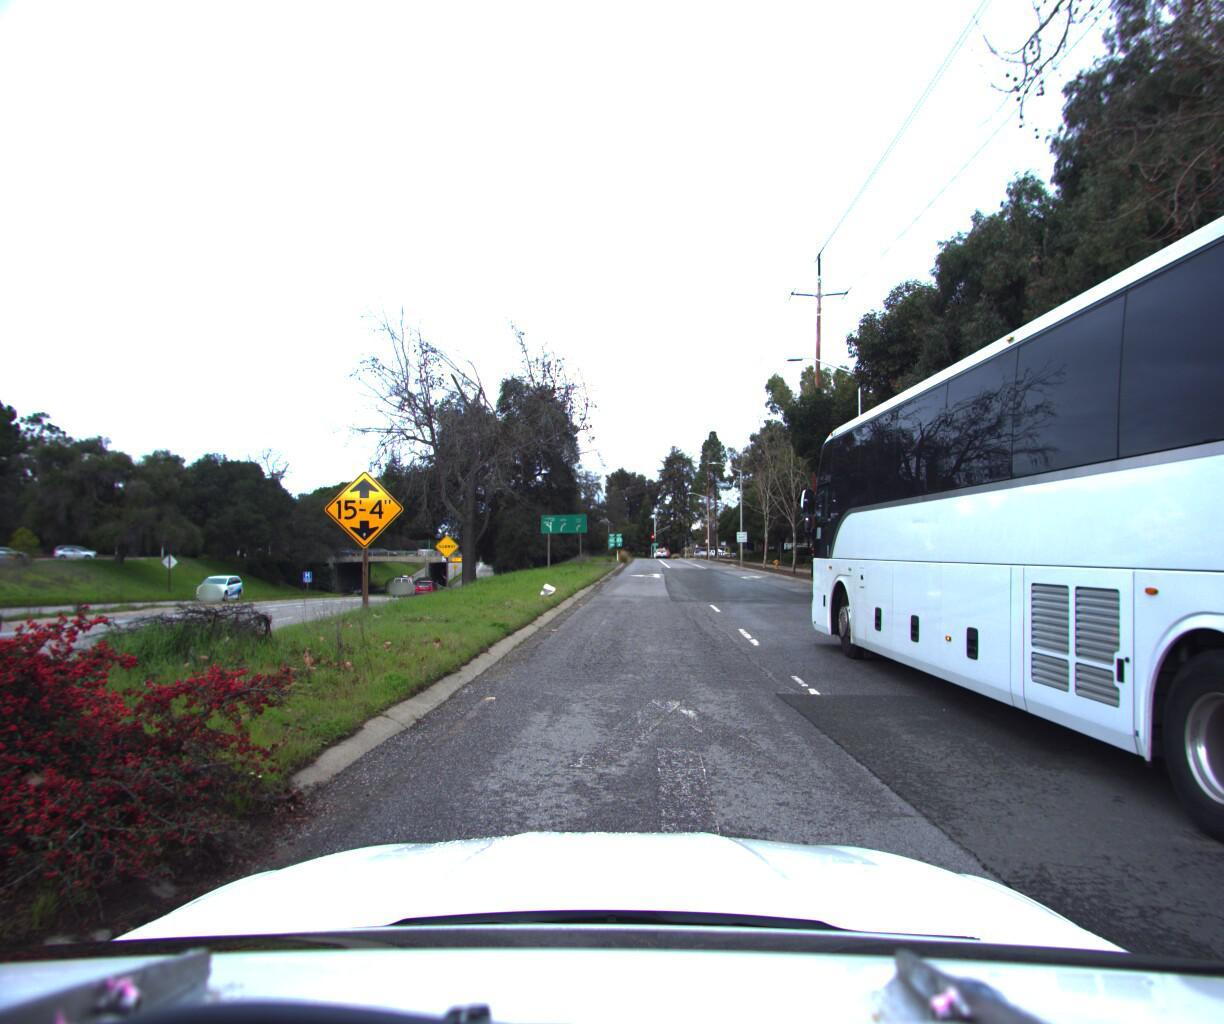bus: (796, 0, 1224, 1024)
car: (0, 575, 18, 660), (197, 567, 247, 597), (388, 565, 418, 589), (413, 575, 440, 595)
